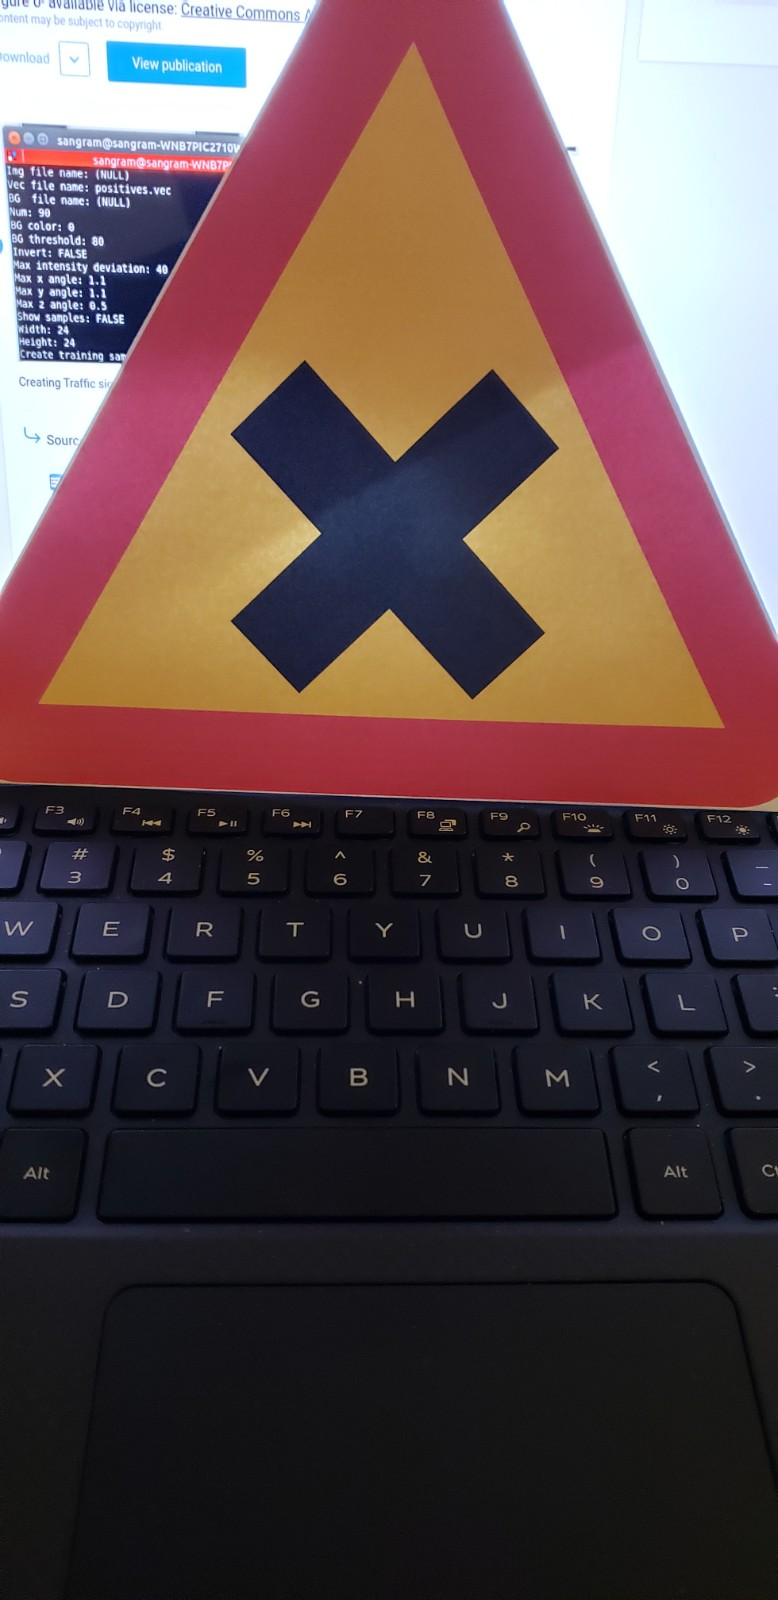junction: (44, 27, 720, 808)
